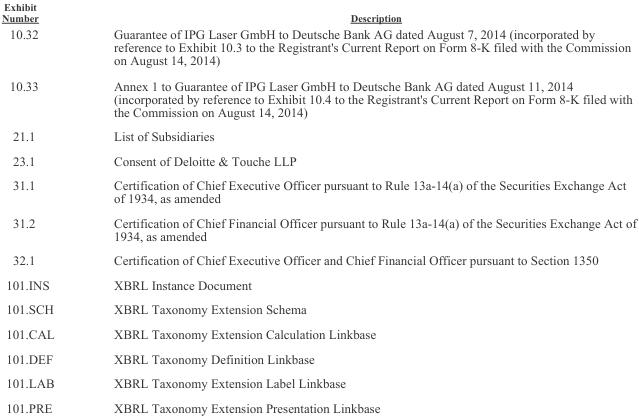table: (1, 1, 635, 414)
table column: (83, 1, 635, 414), (1, 1, 83, 414)
table column header: (1, 1, 635, 24)
table row: (1, 72, 635, 123), (1, 24, 635, 72), (1, 172, 635, 210), (1, 210, 635, 247), (1, 123, 635, 148), (1, 247, 635, 272), (1, 296, 635, 321), (1, 345, 635, 370), (1, 370, 635, 395), (1, 148, 635, 172), (1, 272, 635, 296), (1, 321, 635, 345), (1, 1, 635, 24), (1, 395, 635, 414)
